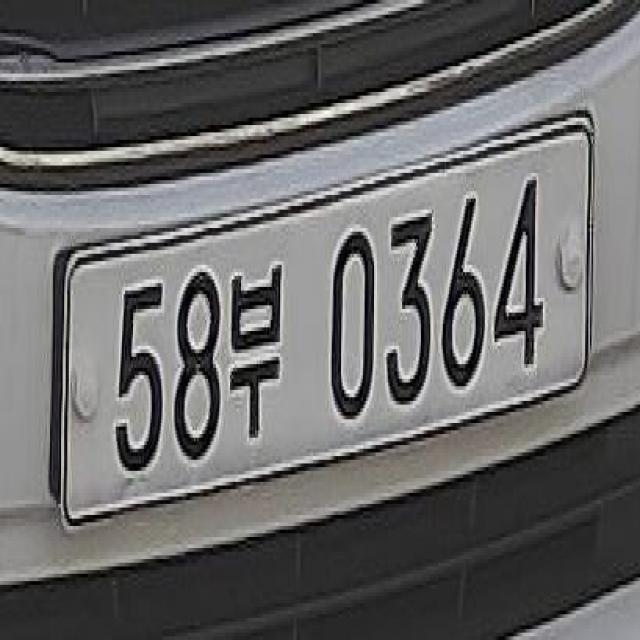0: (326, 218, 379, 422)
3: (385, 203, 435, 416)
4: (490, 162, 546, 378)
5: (111, 267, 168, 487)
6: (440, 180, 488, 400)
8: (171, 256, 225, 460)
bu: (228, 255, 283, 455)
license_plate: (52, 93, 601, 552)
